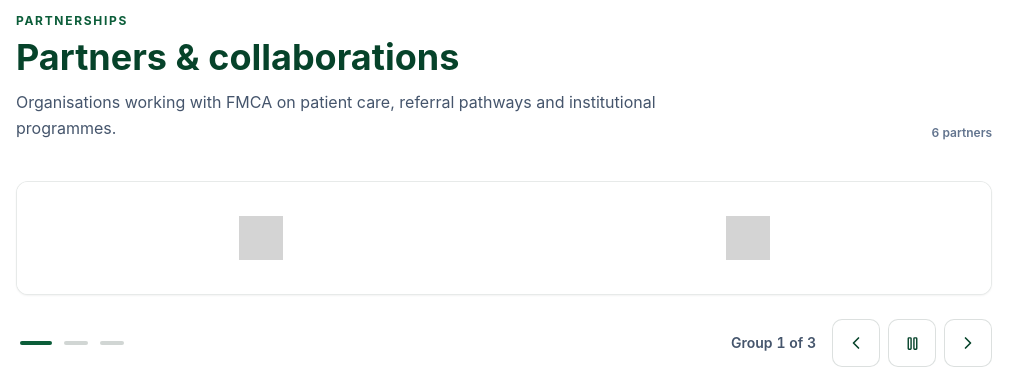
Test: partners home section › moves between groups with the previous and next controls, tracking the active group
This screenshot has width=1009, height=384.
Click the button named "Next partner group" at (968, 343), box [944,319,992,367]
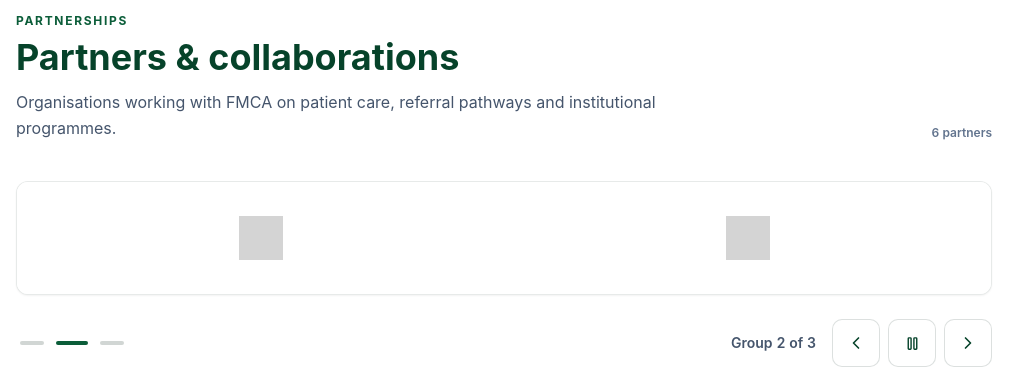
Result: the text "Group 2 of 3" is shown at [731,333,816,353]
Click the button named "Previous partner group" at (856, 343), box [832,319,880,367]
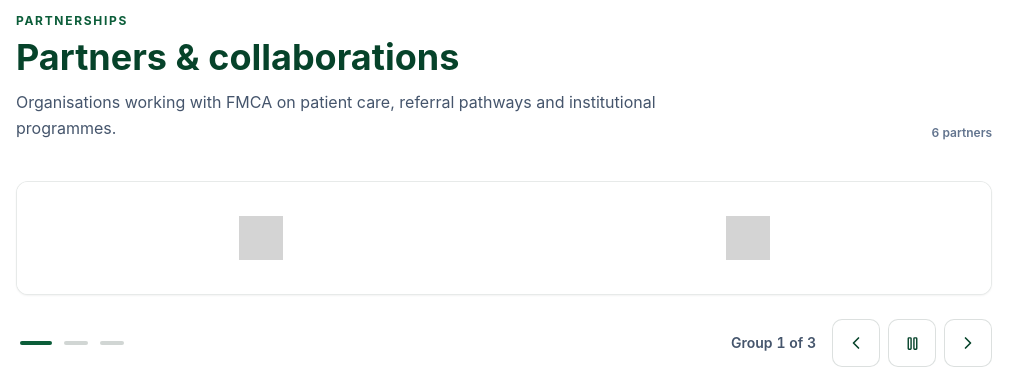
Result: the text "Group 1 of 3" is shown at [731,333,816,353]
